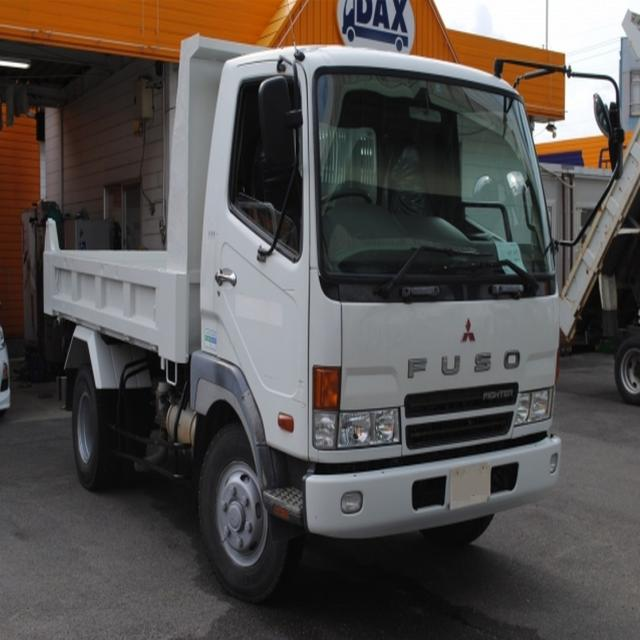truck: (41, 24, 620, 590)
